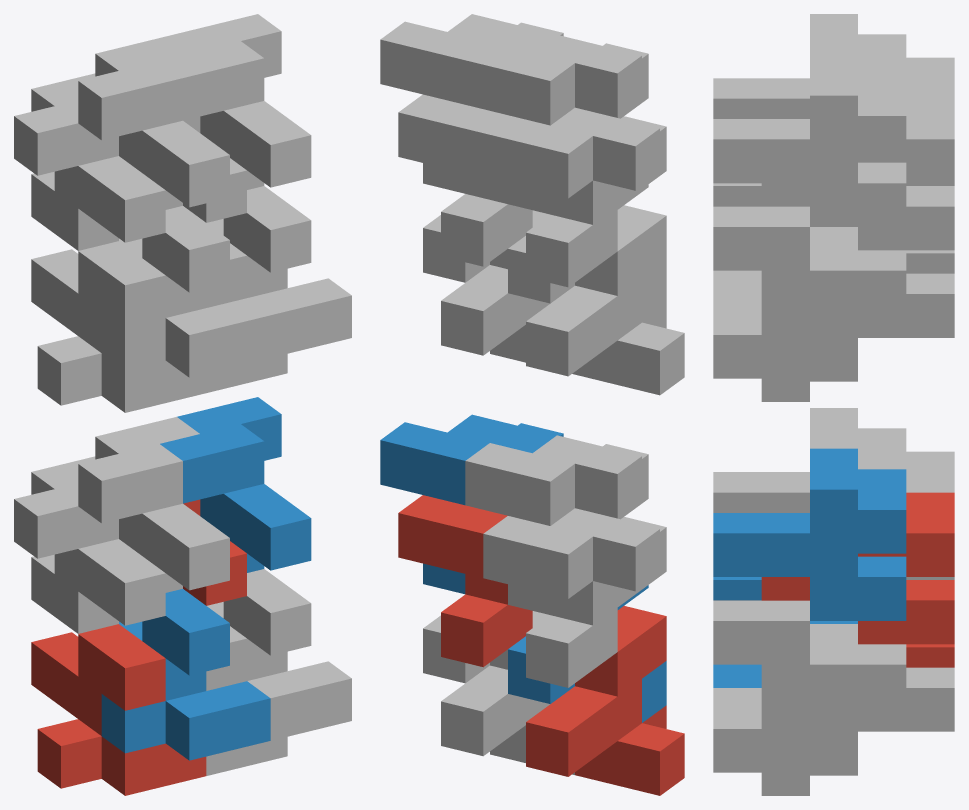
Rendered from tiling.obj.
The picture shows the model from 3 angles, left to right: view 1: azimuth 30°, elevation 25°; view 2: azimuth 150°, elevation 25°; view 3: azimuth 270°, elevation 25°; orthographic projection. The views are drawn at different scales.
Parts seen in each view (by area): view 1: copy_1_domain_1, copy_1_domain_3, copy_2_domain_3, copy_2_domain_1, copy_1_domain_2, copy_1_domain_4, copy_2_domain_2, copy_2_domain_4, copy_2_domain_6, copy_2_domain_8, copy_1_domain_8, copy_1_domain_6 (+4 smaller); view 2: copy_2_domain_1, copy_2_domain_3, copy_1_domain_1, copy_1_domain_3, copy_2_domain_4, copy_2_domain_2, copy_2_domain_5, copy_2_domain_7, copy_2_domain_6, copy_2_domain_8, copy_1_domain_7, copy_1_domain_5 (+4 smaller); view 3: copy_2_domain_8, copy_2_domain_6, copy_1_domain_8, copy_1_domain_6, copy_1_domain_5, copy_1_domain_7, copy_2_domain_7, copy_2_domain_5, copy_2_domain_2, copy_2_domain_4, copy_1_domain_2, copy_1_domain_4 (+4 smaller).
Part boxes in pixels (<box>): copy_1_domain_1: <box>31,624,206,795</box>; copy_1_domain_3: <box>31,241,206,412</box>; copy_2_domain_3: <box>14,73,165,250</box>; copy_2_domain_1: <box>14,456,165,633</box>; copy_1_domain_2: <box>101,589,270,760</box>; copy_1_domain_4: <box>101,206,270,377</box>; copy_2_domain_2: <box>78,417,229,592</box>; copy_2_domain_4: <box>78,34,229,209</box>; copy_2_domain_6: <box>160,397,311,572</box>; copy_2_domain_8: <box>160,14,311,189</box>; copy_1_domain_8: <box>207,186,351,357</box>; copy_1_domain_6: <box>207,569,351,740</box>; copy_2_domain_1: <box>483,508,666,687</box>; copy_2_domain_3: <box>483,107,666,287</box>; copy_1_domain_1: <box>526,606,684,795</box>; copy_1_domain_3: <box>526,205,684,395</box>; copy_2_domain_4: <box>465,35,648,214</box>; copy_2_domain_2: <box>465,435,648,614</box>; copy_2_domain_5: <box>398,495,532,667</box>; copy_2_domain_7: <box>398,94,532,266</box>; copy_2_domain_6: <box>380,414,563,594</box>; copy_2_domain_8: <box>380,14,563,193</box>; copy_1_domain_7: <box>441,210,574,374</box>; copy_1_domain_5: <box>441,611,574,774</box>; copy_2_domain_8: <box>713,54,906,226</box>; copy_2_domain_6: <box>713,448,906,620</box>; copy_1_domain_8: <box>713,206,906,378</box>; copy_1_domain_6: <box>713,600,906,772</box>; copy_1_domain_5: <box>761,624,954,795</box>; copy_1_domain_7: <box>761,230,954,401</box>; copy_2_domain_7: <box>761,98,954,250</box>; copy_2_domain_5: <box>761,492,954,644</box>; copy_2_domain_2: <box>713,408,906,512</box>; copy_2_domain_4: <box>713,14,906,118</box>; copy_1_domain_2: <box>713,577,857,687</box>; copy_1_domain_4: <box>713,183,857,293</box>.
Size of the model in its own units: 6 by 16 by 5.
